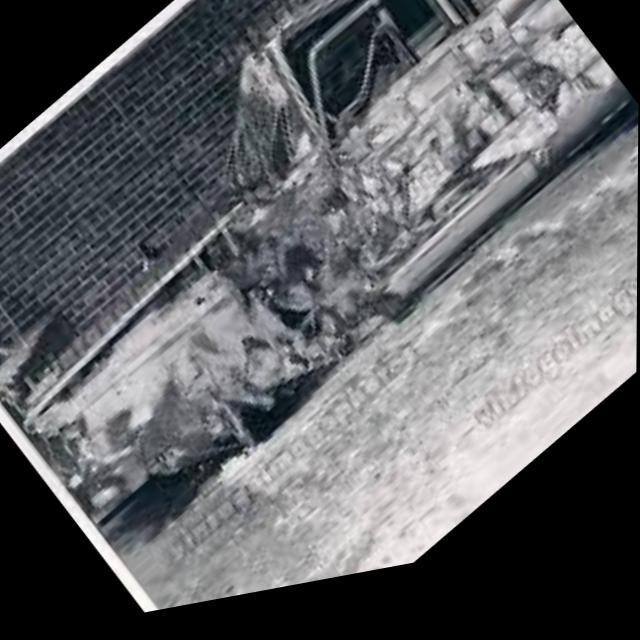no part: (84, 0, 607, 504)
